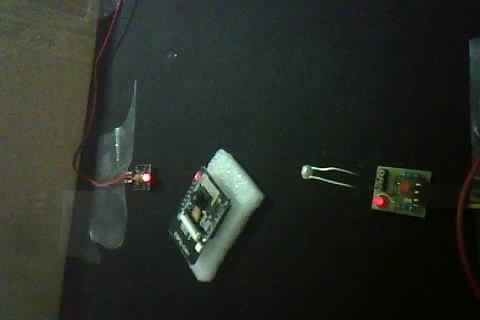esp32: (164, 166, 244, 262)
